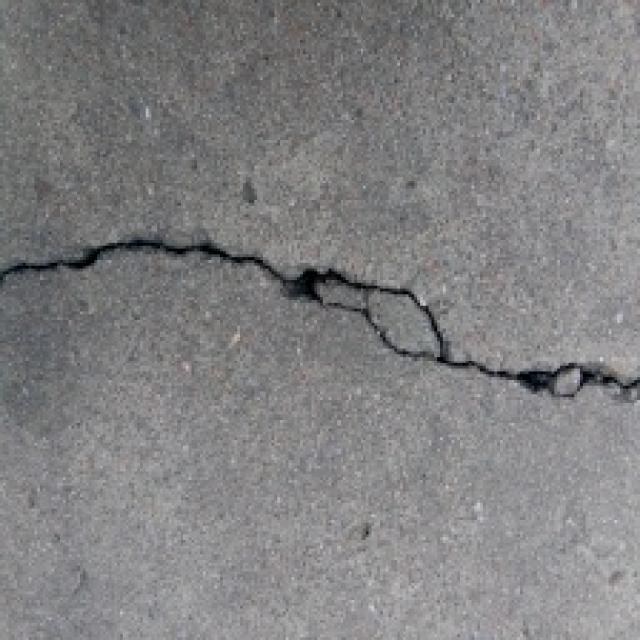crack: (0, 204, 640, 430)
